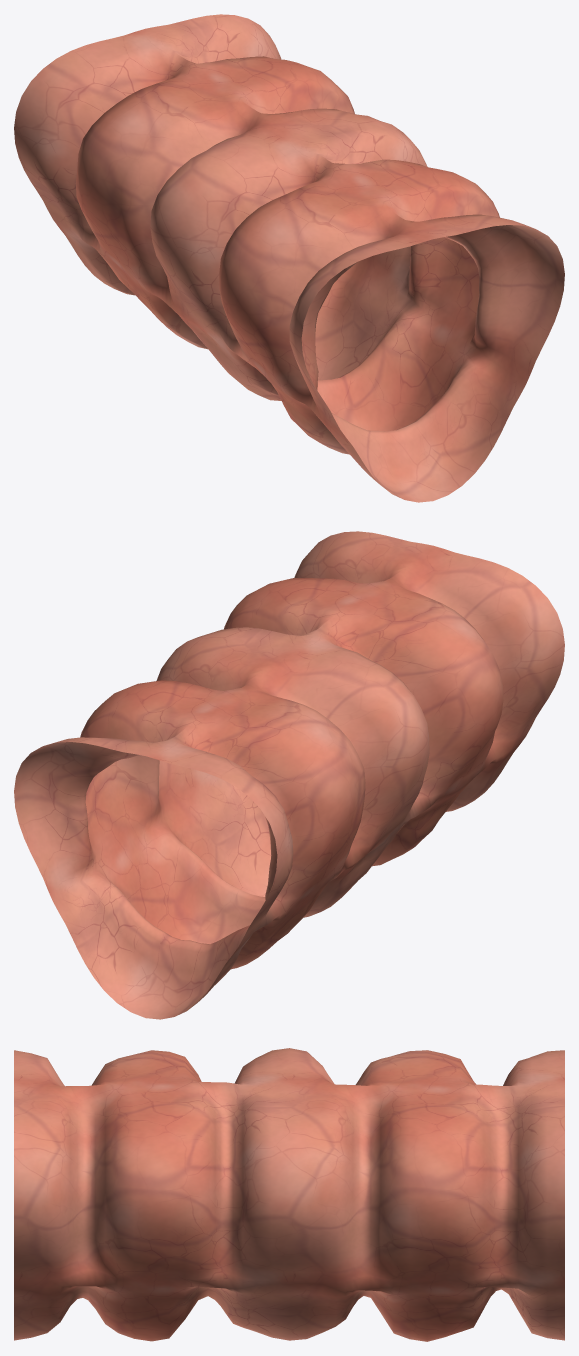
The model's file is Colon_Straight.fbx.
3 renders of one model, top to bottom at view 1: azimuth 30°, elevation 25°; view 2: azimuth 150°, elevation 25°; view 3: azimuth 270°, elevation 25°, orthographic. The views are drawn at different scales.
Parts seen in each view (by area): view 1: Colon_Straight; view 2: Colon_Straight; view 3: Colon_Straight.
Part boxes in pixels (x1,y1,x2,y2): Colon_Straight: (14, 14, 564, 502); Colon_Straight: (14, 531, 564, 1019); Colon_Straight: (14, 1048, 564, 1341).
Bounding box in the file's own units: 4.26 × 4.06 × 8.
